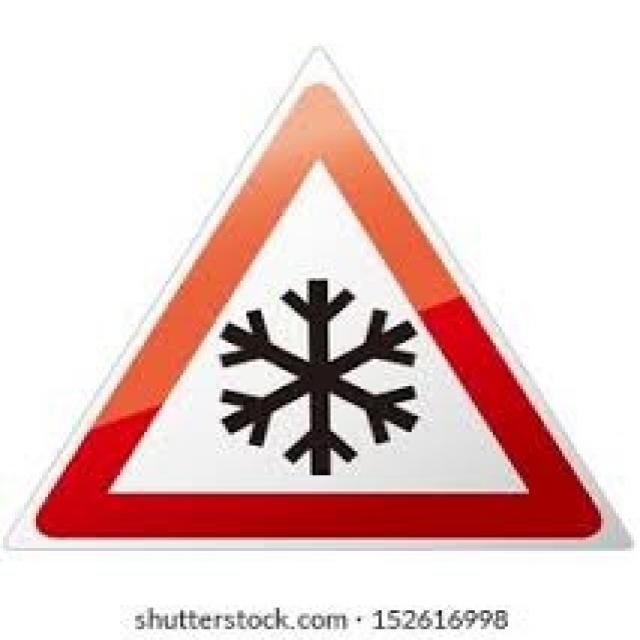snow_warning: (18, 48, 625, 553)
